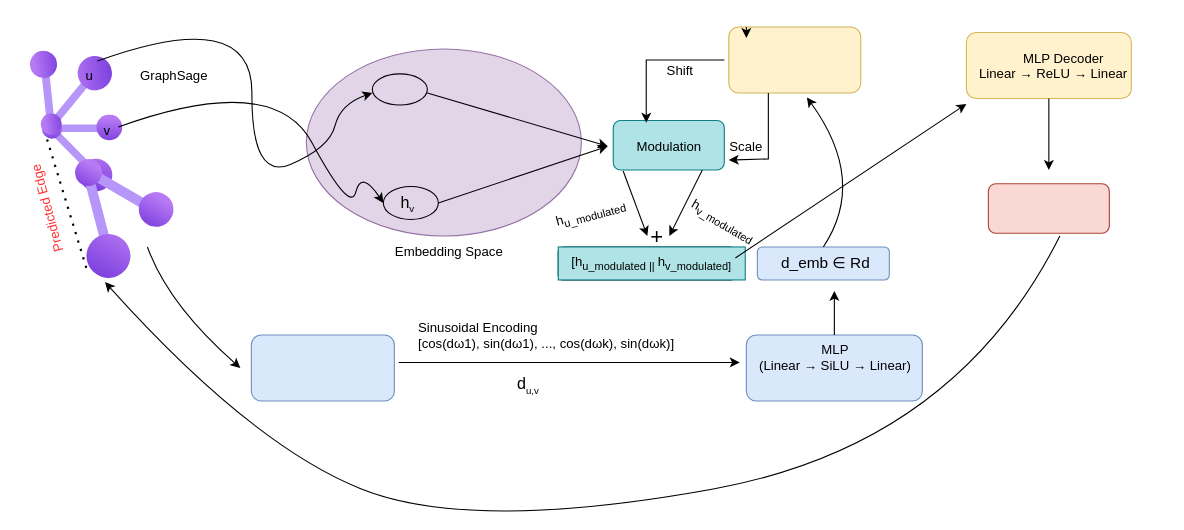
Image size: 1184x530. Some labels were removed from this diagram. Each missing label, with the box of its shape:
AdaLN γ(d), β(d): (728, 26, 861, 93)
h u: (371, 73, 427, 105)
Shortest Path Computation: (250, 334, 394, 401)
σ(score) Link Probability: (987, 183, 1109, 233)
